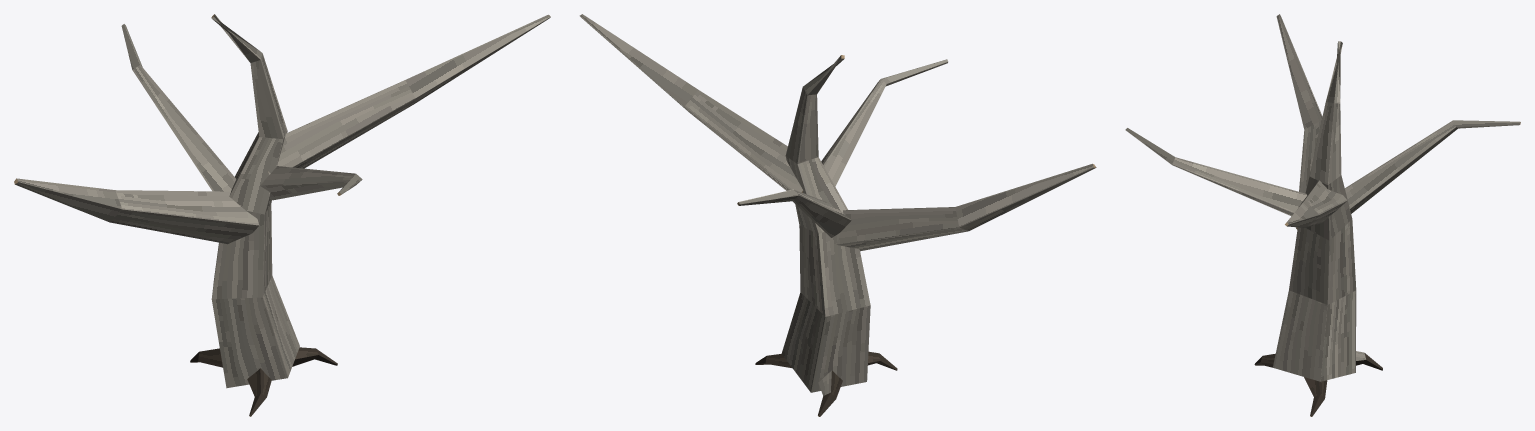
File: spreading-oak-mid.glb
3 views of the same model, side by side, from view 1: azimuth 30°, elevation 25°; view 2: azimuth 150°, elevation 25°; view 3: azimuth 270°, elevation 25° (orthographic). The views are drawn at different scales.
Parts seen in each view (by area): view 1: spreading-oak.001; view 2: spreading-oak.001; view 3: spreading-oak.001.
Boxes of the visible parts, x1,y1,x2,y2 form: spreading-oak.001: (14,14,550,416); spreading-oak.001: (579,14,1096,416); spreading-oak.001: (1125,14,1520,416).
Bounding box in the file's own units: 9.15 × 5.92 × 6.44.
3 materials, 3 textured.
